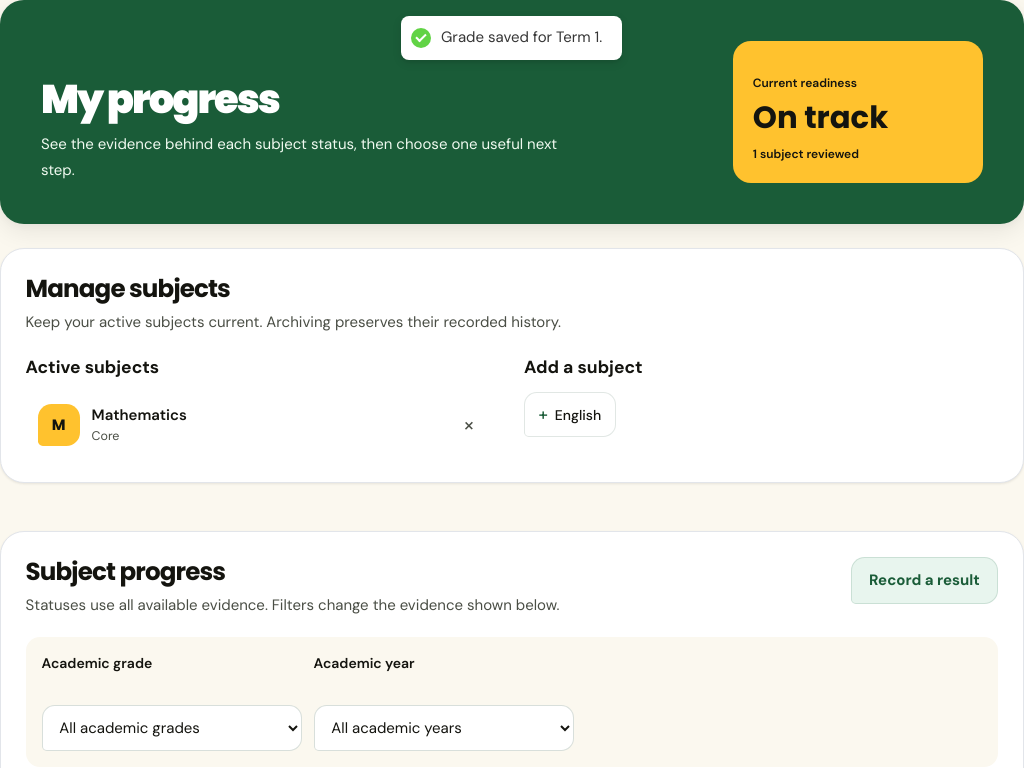
flagged My Progress dashboard › preserves subject enrolment and archive management on the unified page
The image size is (1024, 768).
expect the heading "Manage subjects" is shown: met, box 26,271 -> 230,306
Click the button with aria-label "Add English" at (570, 414), box 524,392 -> 616,437
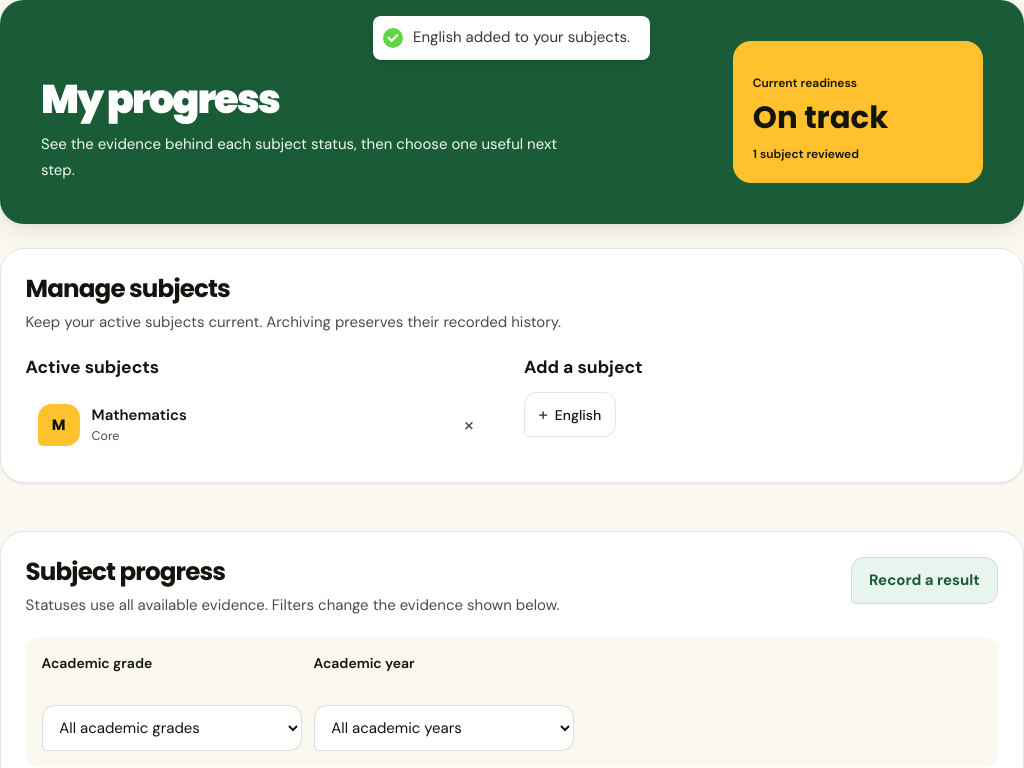
expect the text "English added to your subjects." is shown: met, box 414,28 -> 631,48
Click the button named "Archive Mathematics" at (469, 425), box 450,406 -> 488,444
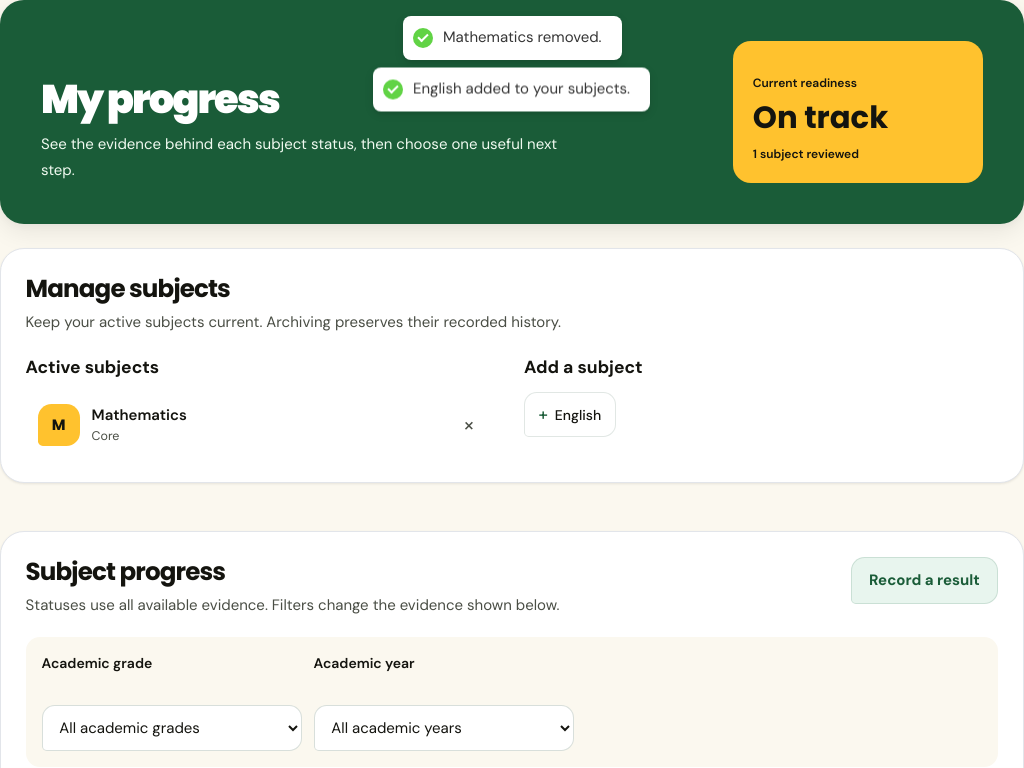
expect the text "Mathematics removed." is shown: met, box 443,28 -> 601,48
